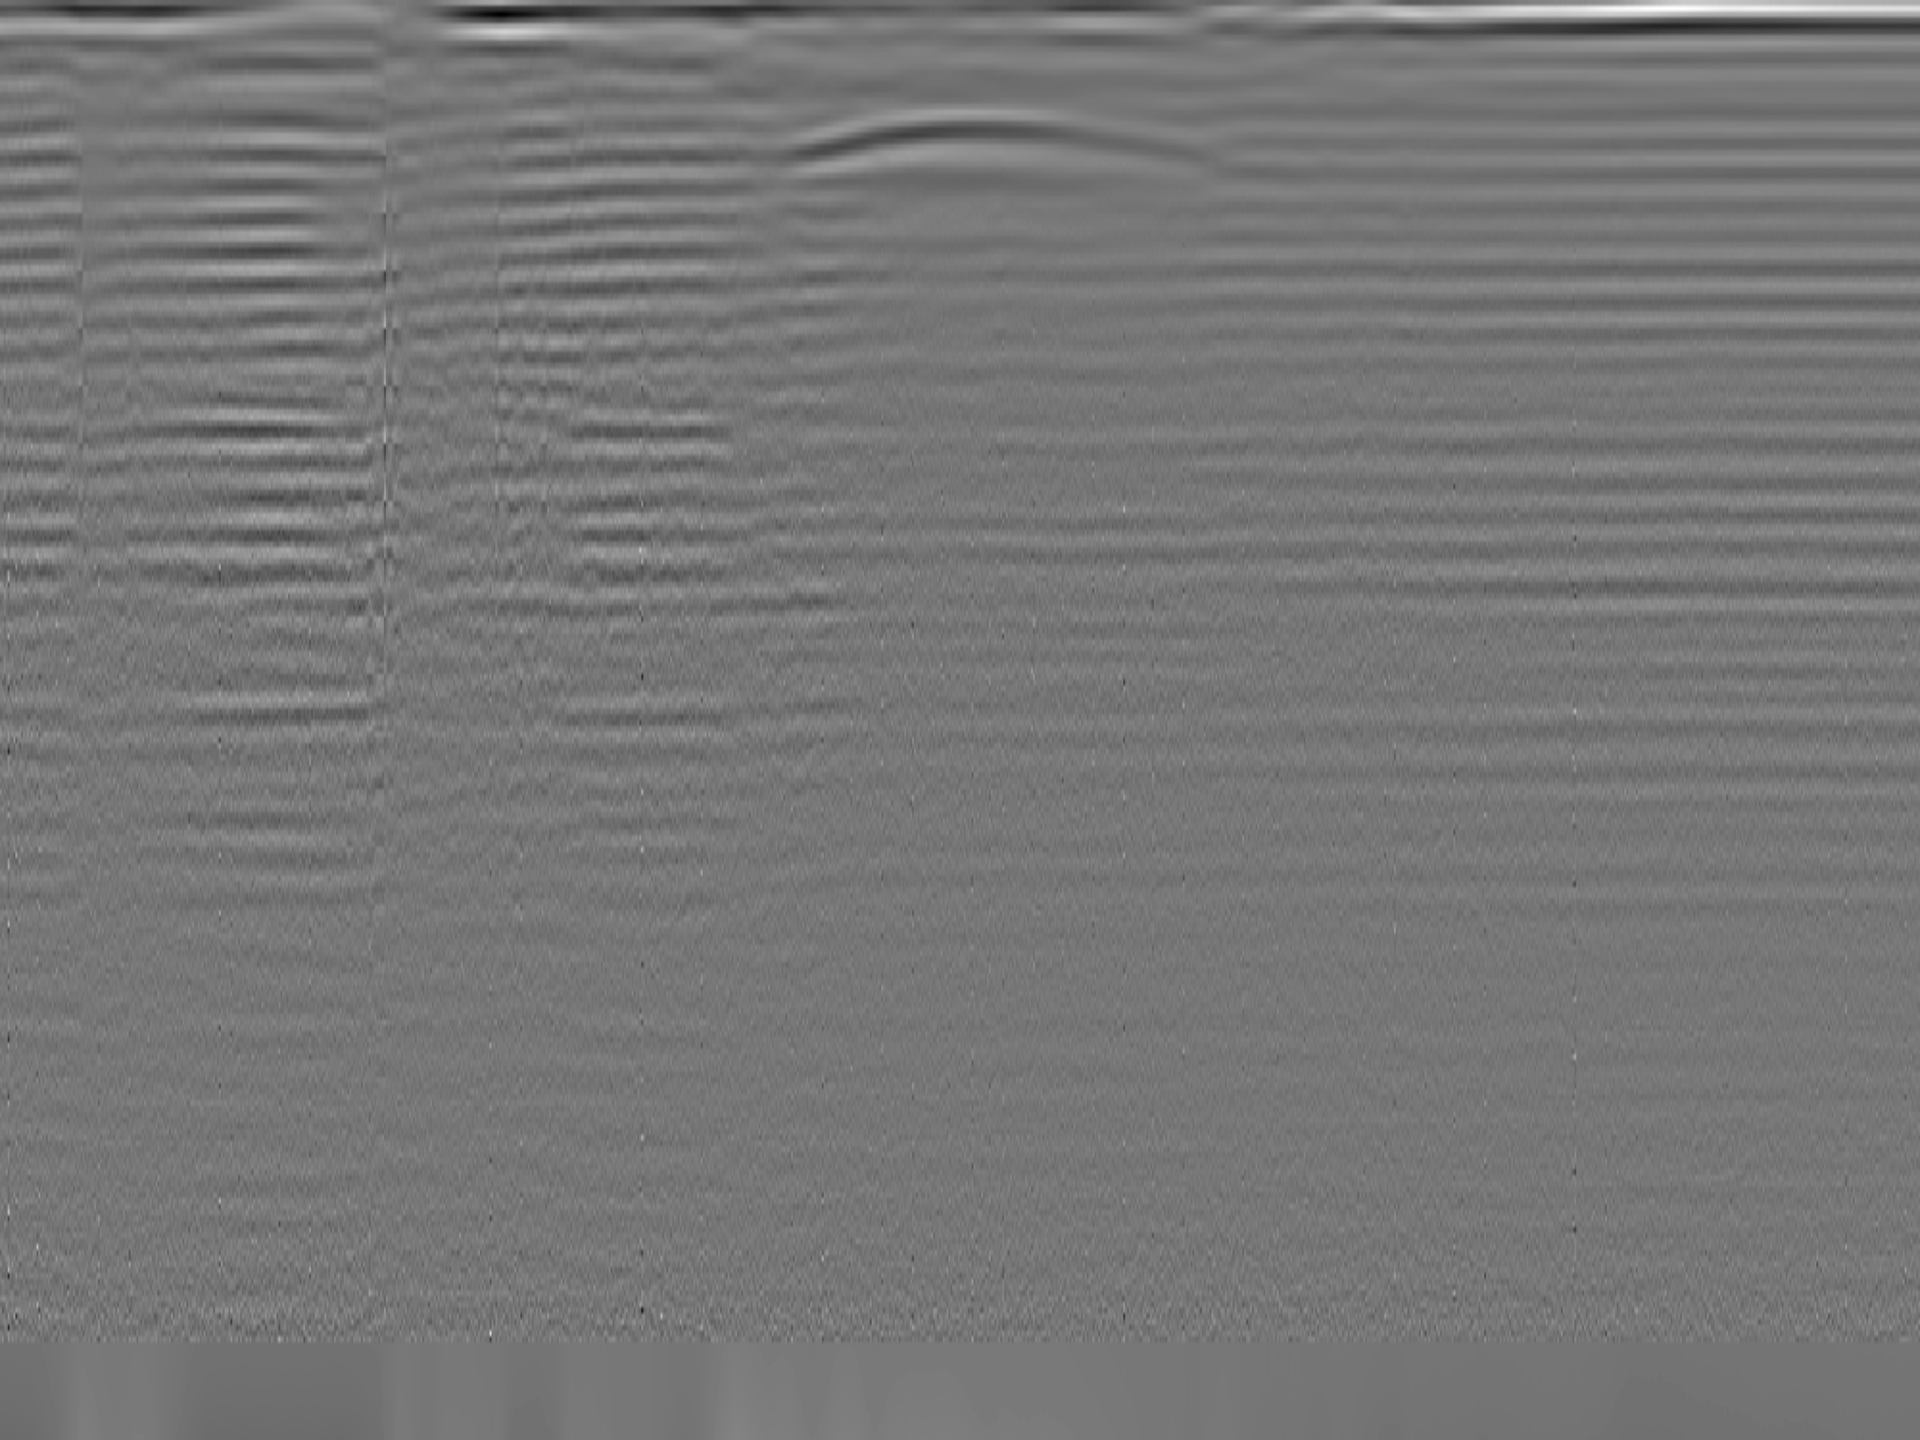Tunnel: (786, 104, 1211, 185)
